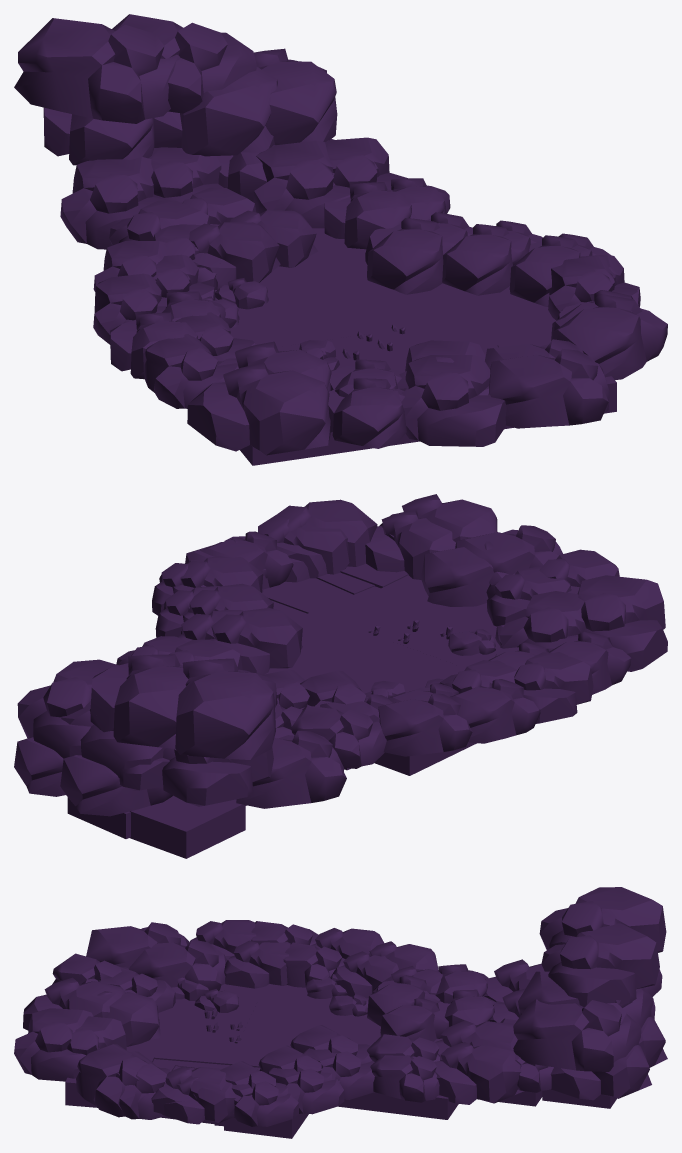
Rendered from dStone_46_02_9875.fbx.
3 views of the same model, one above another, from view 1: azimuth 30°, elevation 25°; view 2: azimuth 150°, elevation 25°; view 3: azimuth 270°, elevation 25° (orthographic). The views are drawn at different scales.
Visible parts, largest first — view 1: dStone, Crystal1; view 2: dStone, Crystal1; view 3: Crystal1, dStone.
Boxes of the visible parts, x1,y1,x2,y2 form: dStone: (14,18,667,465); Crystal1: (112,14,653,397); dStone: (60,494,667,858); Crystal1: (14,510,585,838); Crystal1: (67,923,659,1138); dStone: (14,887,667,1126).
Size of the model in its own units: 14.66 by 5.66 by 22.06.
